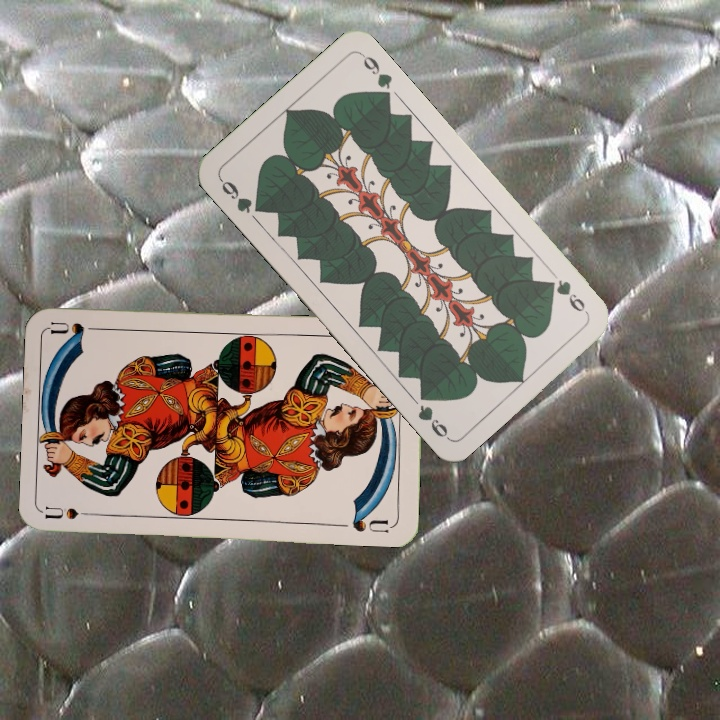G9: (215, 174, 267, 217), (542, 275, 591, 317)
SU: (43, 502, 102, 522)
